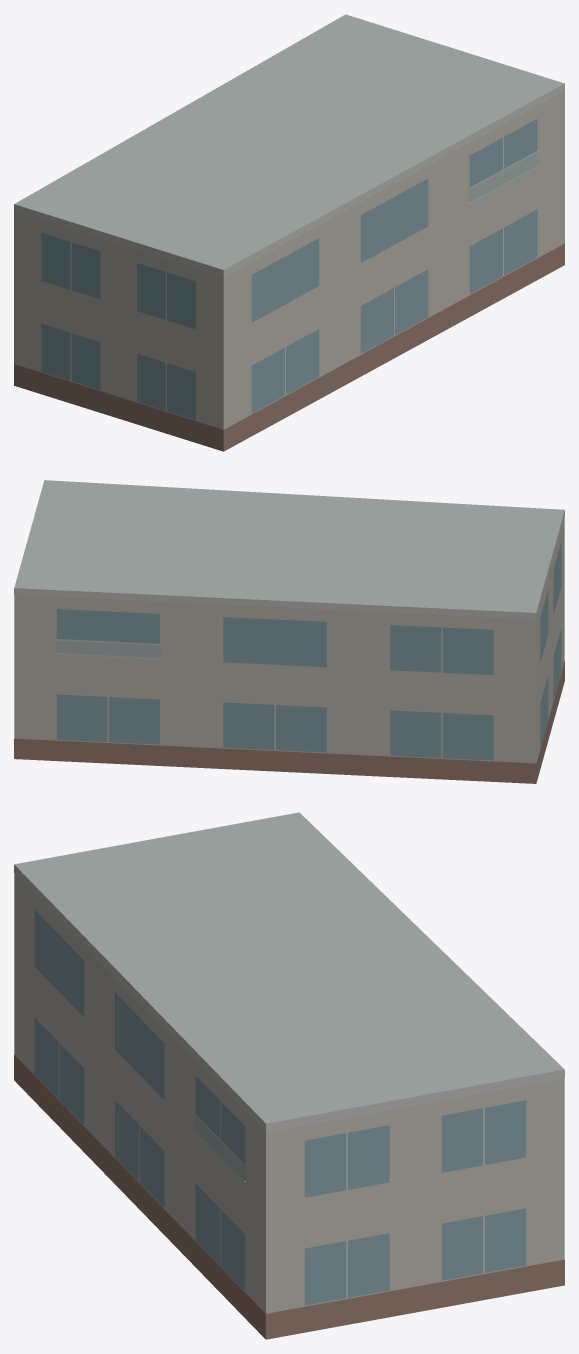
Rendered from survey-upis-32866970.glb.
3 renders of one model, top to bottom at view 1: azimuth 30°, elevation 25°; view 2: azimuth 150°, elevation 25°; view 3: azimuth 270°, elevation 25°, orthographic. The views are drawn at different scales.
Parts seen in each view (by area): view 1: survey-upis-32866970.tmp; view 2: survey-upis-32866970.tmp; view 3: survey-upis-32866970.tmp.
Boxes of the visible parts, x1,y1,x2,y2 form: survey-upis-32866970.tmp: (14, 14, 564, 451); survey-upis-32866970.tmp: (14, 480, 564, 783); survey-upis-32866970.tmp: (14, 812, 564, 1339).
Bounding box in the file's own units: 18.88 × 6.1 × 14.11.
